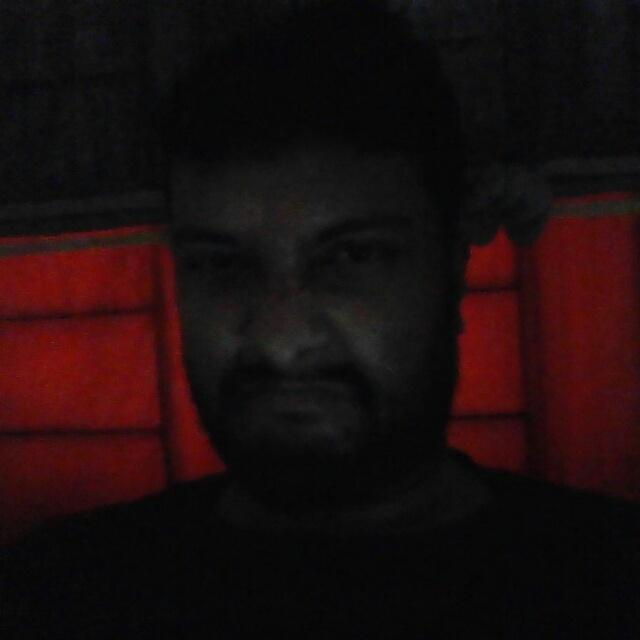Disgust: (93, 63, 465, 547)
